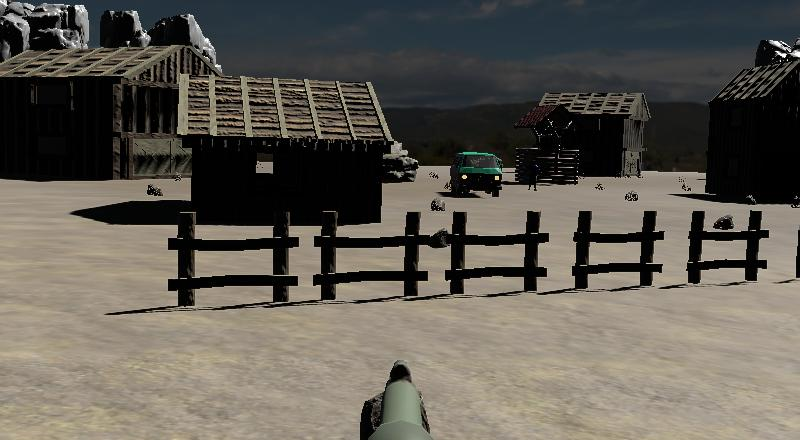car: (448, 148, 505, 200)
